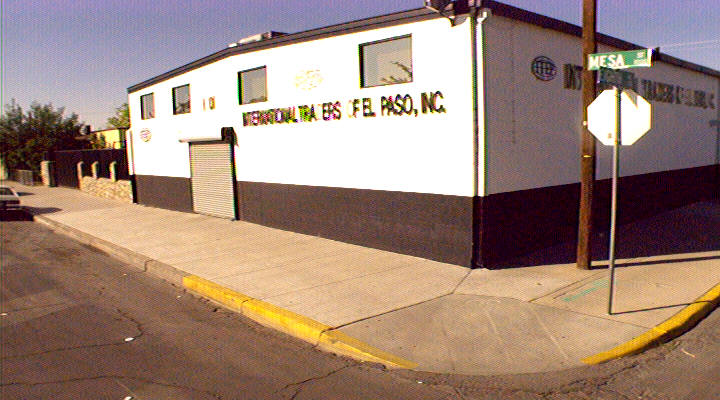Ramp: (305, 286, 683, 382)
